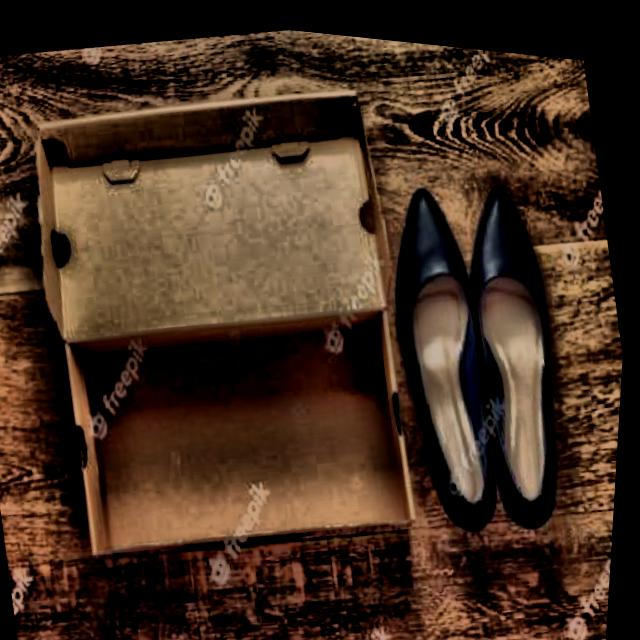Cardbox: (1, 48, 459, 593)
